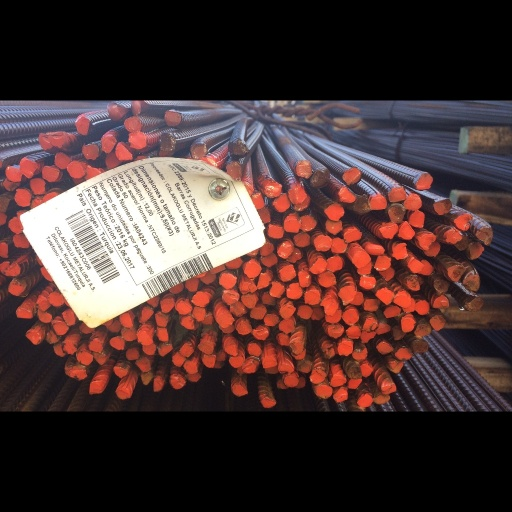dipstick: (310, 169, 330, 188), (19, 158, 37, 178), (434, 198, 453, 215), (274, 193, 290, 213), (325, 204, 345, 220), (107, 103, 125, 120), (129, 132, 147, 149), (418, 232, 435, 250), (415, 173, 433, 190), (454, 213, 472, 230), (475, 227, 492, 245), (164, 110, 181, 127), (338, 287, 355, 304), (343, 167, 360, 184), (230, 140, 248, 156), (265, 180, 281, 198), (314, 235, 332, 251), (388, 205, 404, 223), (404, 194, 422, 210), (468, 241, 484, 259), (463, 273, 479, 291), (116, 143, 133, 159), (219, 273, 236, 289), (288, 187, 305, 203), (300, 215, 317, 231), (326, 255, 343, 271), (398, 222, 414, 239), (388, 186, 405, 202), (447, 265, 463, 282), (48, 132, 66, 147), (296, 160, 311, 178), (354, 195, 369, 213), (464, 296, 482, 311), (102, 134, 116, 153), (68, 162, 84, 178), (244, 262, 260, 278), (280, 265, 296, 281), (294, 232, 310, 248), (342, 309, 358, 325), (377, 288, 393, 304), (394, 291, 410, 307), (161, 133, 176, 150), (42, 166, 59, 181), (15, 189, 30, 206), (8, 279, 25, 294), (380, 223, 397, 238), (409, 211, 424, 228), (227, 162, 241, 180), (318, 273, 336, 287), (54, 152, 69, 168), (48, 292, 64, 307), (250, 193, 265, 209), (253, 326, 269, 341), (310, 259, 326, 274), (286, 283, 302, 298), (82, 145, 99, 159), (374, 256, 391, 270), (370, 196, 387, 210), (325, 220, 342, 234), (352, 253, 370, 266), (192, 143, 207, 158), (30, 179, 45, 194), (6, 166, 21, 181), (176, 300, 191, 315), (268, 224, 283, 239), (280, 304, 295, 319), (338, 341, 353, 356), (339, 187, 354, 202), (445, 228, 460, 243), (125, 117, 141, 131), (8, 217, 22, 233), (217, 313, 233, 327), (250, 305, 266, 319), (304, 290, 320, 304), (279, 319, 295, 333), (327, 324, 343, 338), (323, 298, 337, 314), (431, 315, 445, 331), (76, 352, 93, 365), (199, 271, 216, 284), (239, 281, 256, 294), (298, 270, 311, 287), (344, 229, 361, 242), (395, 347, 412, 360), (365, 244, 385, 255), (76, 117, 88, 135), (191, 295, 209, 307), (106, 153, 120, 168), (136, 358, 151, 372), (139, 309, 154, 323), (236, 320, 251, 334), (269, 282, 284, 296), (297, 305, 312, 319), (357, 393, 372, 407), (415, 300, 429, 315), (38, 134, 51, 150), (86, 166, 102, 179), (13, 234, 29, 247), (52, 322, 68, 335), (120, 312, 133, 328), (137, 332, 153, 345), (294, 197, 310, 210), (257, 273, 270, 289), (261, 253, 277, 266), (278, 242, 291, 258), (284, 219, 300, 232), (316, 385, 332, 398), (364, 298, 380, 311), (345, 326, 361, 339), (361, 318, 377, 331), (377, 342, 393, 355), (394, 243, 407, 259), (110, 336, 124, 350), (160, 299, 174, 313), (121, 328, 136, 341), (170, 376, 185, 389), (232, 383, 247, 396), (332, 238, 345, 253), (326, 310, 341, 323), (434, 279, 449, 292), (409, 258, 422, 273), (310, 371, 326, 383), (384, 306, 400, 318), (414, 324, 430, 336), (432, 296, 449, 307), (202, 354, 215, 368), (258, 209, 271, 223), (333, 390, 347, 403), (413, 340, 427, 353), (37, 311, 52, 323), (26, 332, 41, 344), (223, 292, 238, 304), (242, 296, 257, 308), (262, 356, 277, 368), (296, 360, 311, 372), (331, 375, 346, 387), (352, 348, 367, 360), (360, 331, 375, 343), (360, 276, 375, 288), (379, 269, 394, 281), (401, 317, 413, 332), (226, 258, 242, 269), (69, 368, 88, 377), (154, 314, 167, 327), (231, 303, 244, 316), (248, 343, 261, 356), (63, 312, 75, 326), (88, 340, 102, 352), (156, 327, 168, 341), (158, 344, 172, 356), (192, 307, 204, 321), (262, 293, 276, 305), (312, 306, 324, 320), (360, 363, 372, 377), (347, 366, 361, 378), (426, 244, 440, 256), (264, 314, 279, 325), (408, 275, 419, 290), (16, 309, 32, 319), (197, 344, 213, 354), (291, 247, 301, 263), (46, 331, 59, 343), (181, 317, 194, 329), (185, 278, 197, 291), (277, 333, 290, 345), (377, 323, 390, 335), (391, 360, 403, 373), (456, 236, 468, 249), (5, 264, 19, 275), (63, 343, 77, 354), (125, 348, 139, 359), (173, 353, 184, 367), (169, 283, 183, 294), (392, 326, 403, 340), (3, 180, 18, 190), (115, 389, 130, 399), (325, 345, 335, 360), (0, 196, 9, 212), (0, 242, 9, 258), (108, 321, 120, 333), (185, 361, 197, 373), (373, 395, 389, 404), (358, 262, 370, 274), (36, 299, 49, 310), (114, 366, 127, 377), (142, 344, 155, 355), (180, 344, 191, 357), (260, 244, 273, 255), (131, 101, 141, 115), (80, 323, 94, 333), (229, 357, 243, 367), (422, 260, 432, 274), (153, 377, 162, 392), (186, 373, 201, 382), (141, 373, 152, 385), (147, 296, 158, 308), (226, 344, 237, 356), (352, 292, 363, 304), (89, 383, 102, 393), (243, 363, 256, 373), (285, 376, 298, 386), (279, 363, 293, 372), (382, 384, 396, 393), (31, 197, 42, 208), (291, 342, 302, 353), (54, 344, 64, 356), (348, 378, 360, 388), (406, 298, 414, 313), (203, 312, 212, 325), (293, 350, 306, 359), (220, 325, 234, 333), (261, 399, 275, 407), (215, 351, 226, 361), (0, 212, 7, 225), (0, 261, 8, 271), (264, 368, 278, 373), (277, 382, 286, 389), (298, 378, 305, 387)
